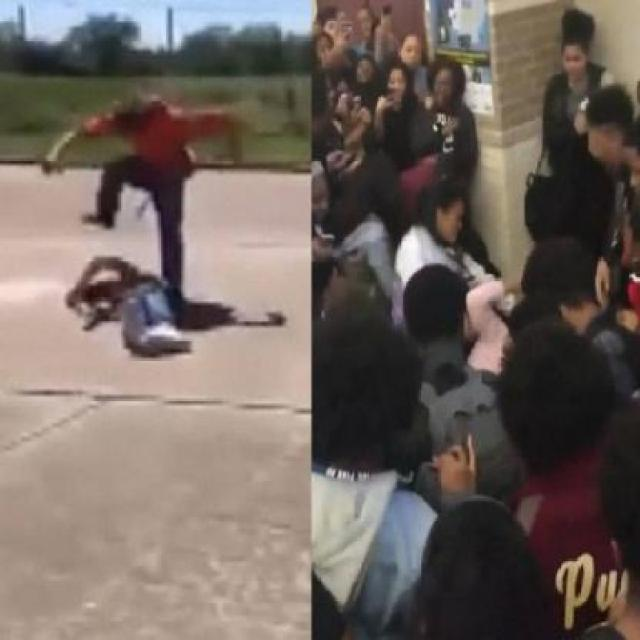fight: (300, 338, 626, 638), (50, 60, 265, 415), (409, 188, 629, 384), (315, 19, 493, 224), (531, 11, 640, 169)
